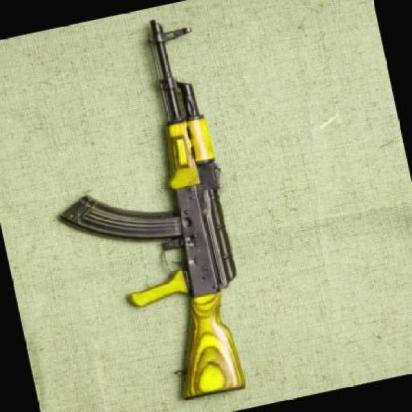Gun: (67, 19, 247, 398)
